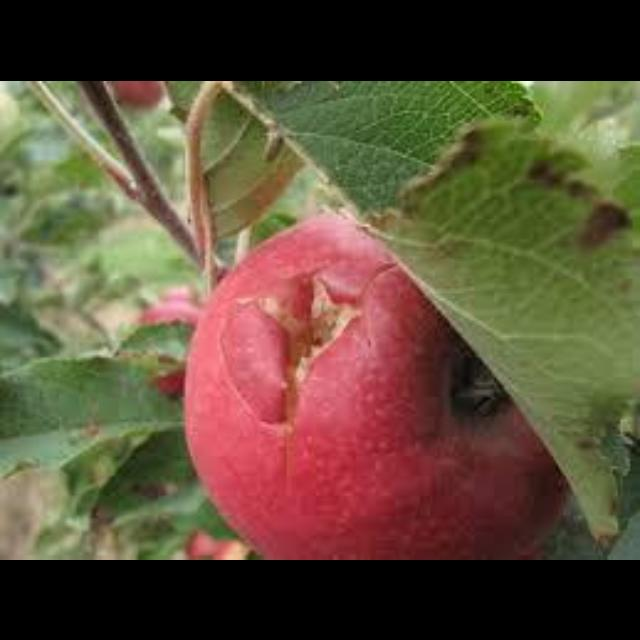apple: (185, 213, 566, 557)
scratch: (219, 263, 394, 439)
